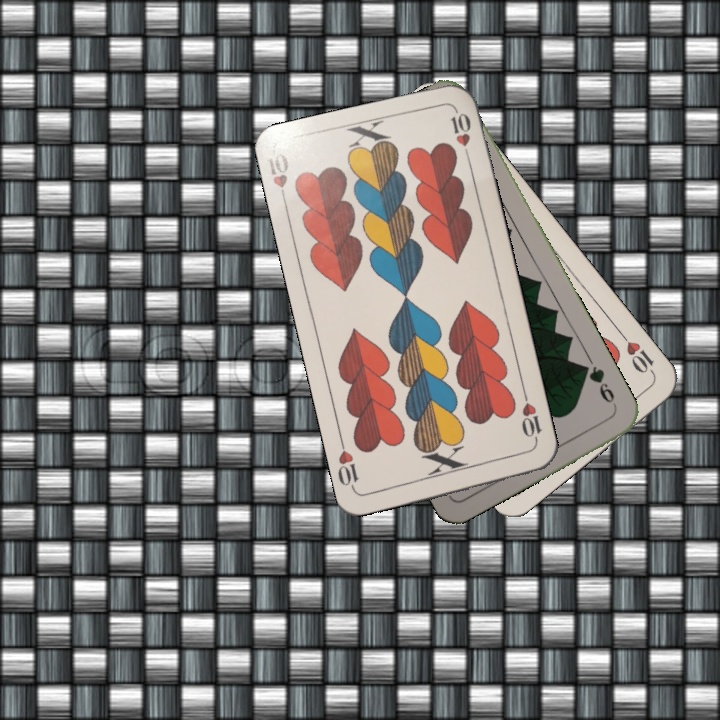G9: (577, 361, 620, 411)
H10: (615, 328, 658, 378), (264, 149, 292, 209), (517, 389, 545, 448)
